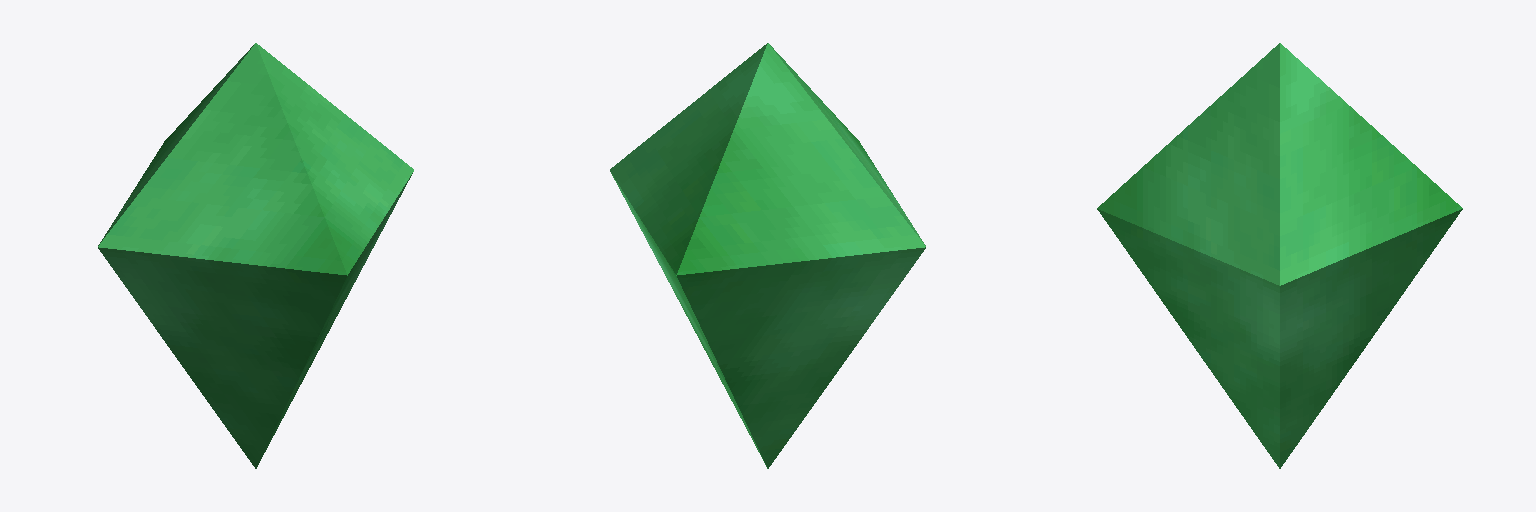
3 views of the same model, side by side, from view 1: azimuth 30°, elevation 25°; view 2: azimuth 150°, elevation 25°; view 3: azimuth 270°, elevation 25° (orthographic).
Parts seen in each view (by area): view 1: crystal_g; view 2: crystal_g; view 3: crystal_g.
Boxes of the visible parts, x1,y1,x2,y2 form: crystal_g: [98, 43, 413, 468]; crystal_g: [610, 43, 925, 468]; crystal_g: [1097, 43, 1462, 468].
Bounding box in the file's own units: 7 × 9 × 7.
1 materials, 1 textured.